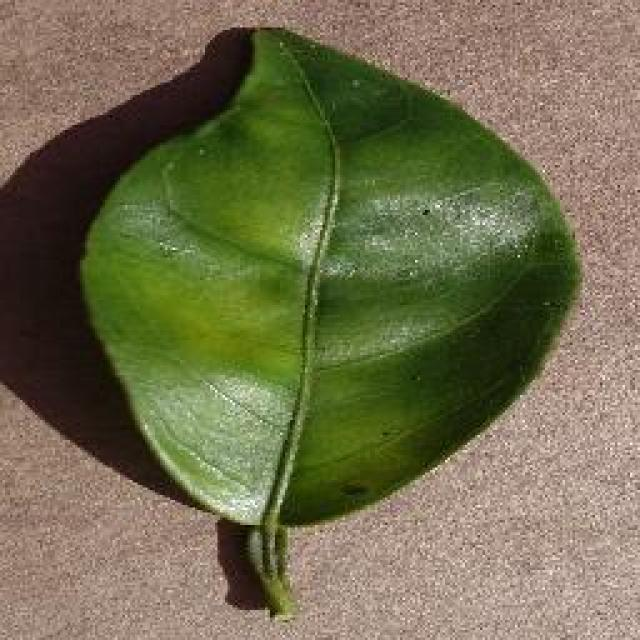Orange_Haunglongbing_Citrus_greening: (134, 118, 536, 502)
